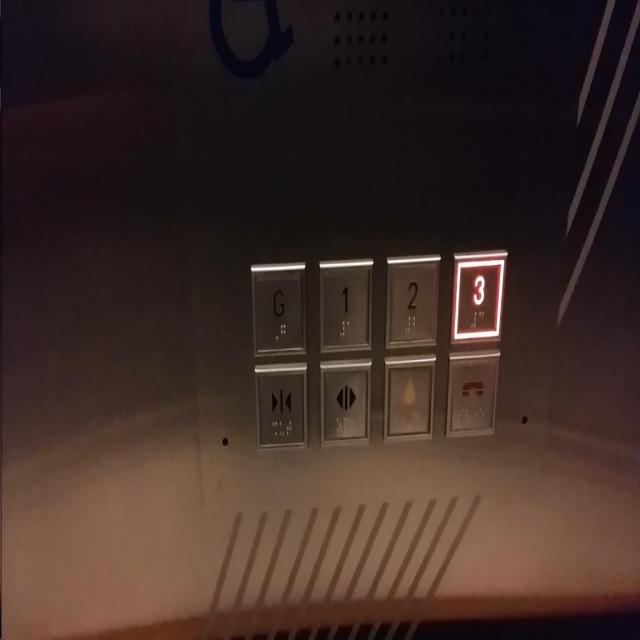1: (316, 259, 374, 352)
2: (382, 254, 440, 348)
3: (449, 249, 506, 345)
G: (250, 259, 306, 355)
alarm: (381, 355, 435, 443)
call: (446, 350, 500, 438)
close: (254, 359, 309, 452)
open: (318, 355, 373, 447)
